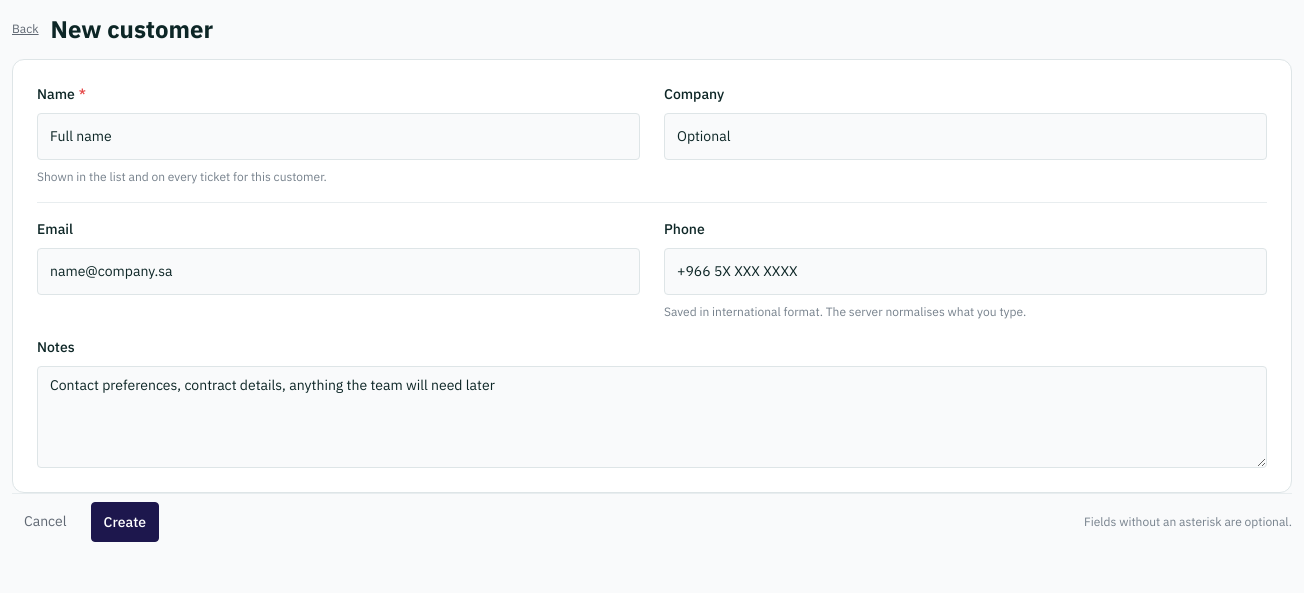
Test: AC-8 — the 409, and the only route to the existing record › names the field and offers a search for the value that collided
The width and height of the screenshot is (1304, 593).
Type "Noura Al-Salem" into the field labelled "Name". click: (338, 136)
box: [37,113,640,160]
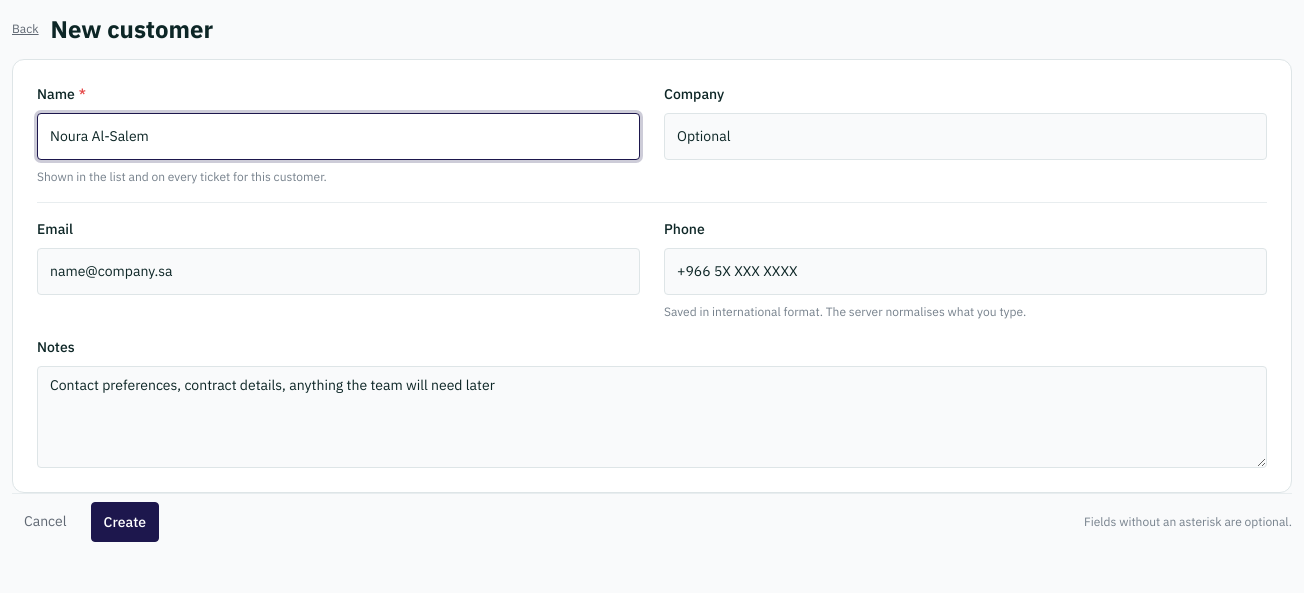
Type "noura@example.com" into the field labelled "Email". click: (338, 271)
box: [37,248,640,295]
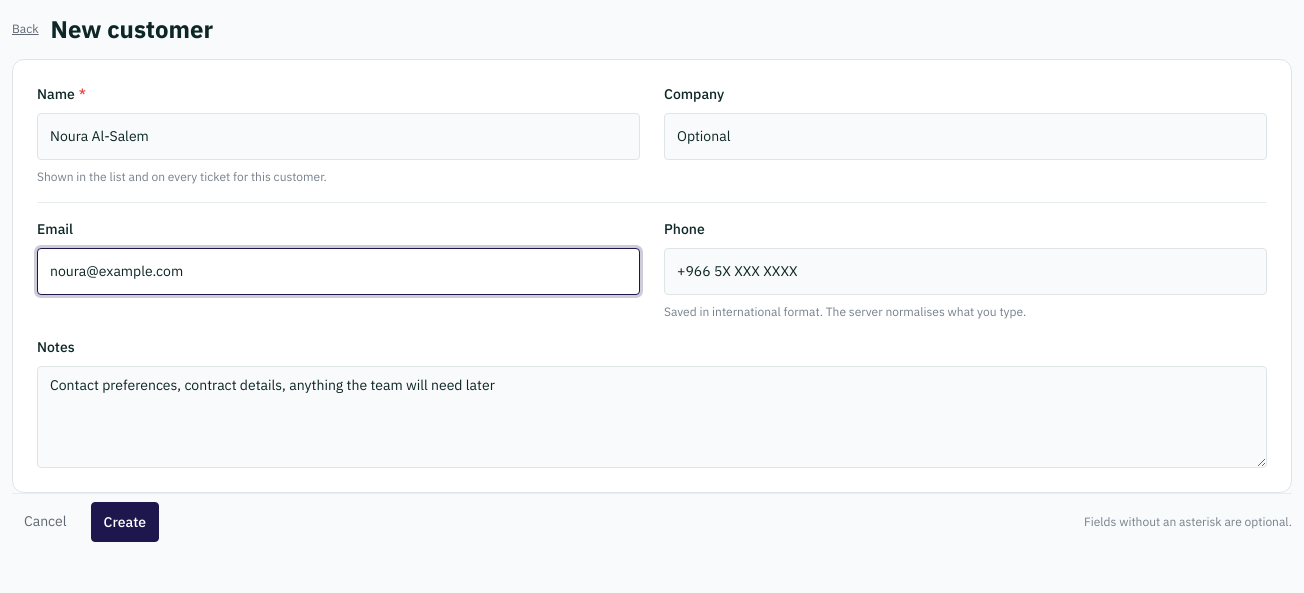
Click the button "Create". click: (125, 522)
box: [91,502,159,542]
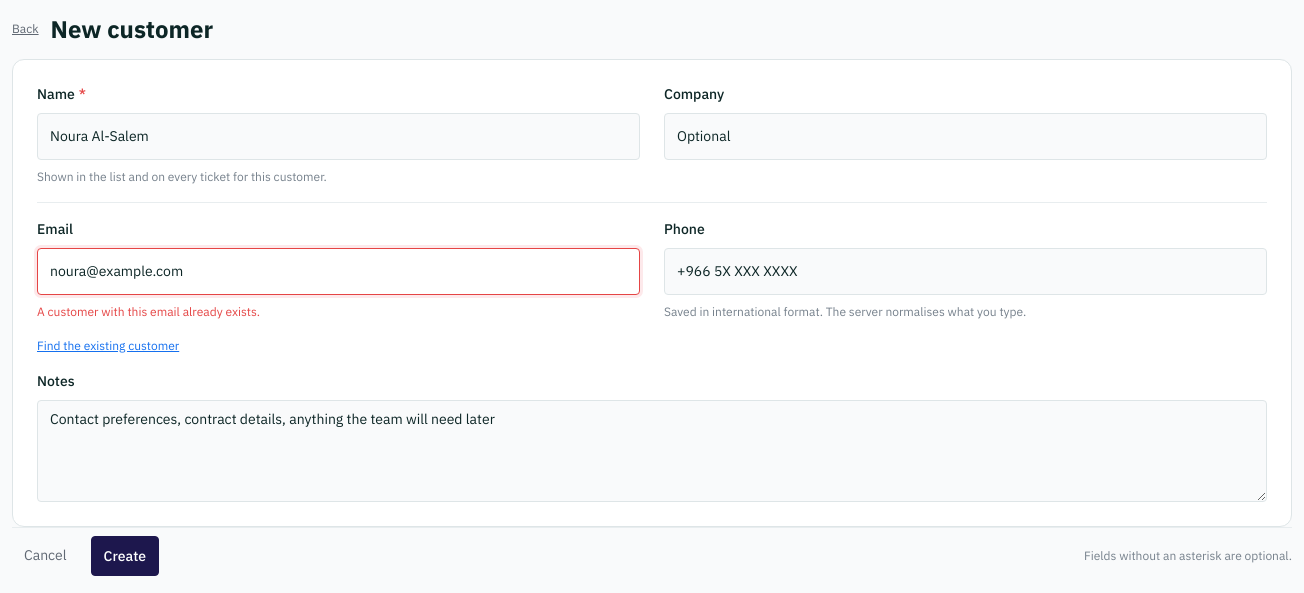
Check: the text "A customer with this email already exists." is shown, box [37,304,260,319]
